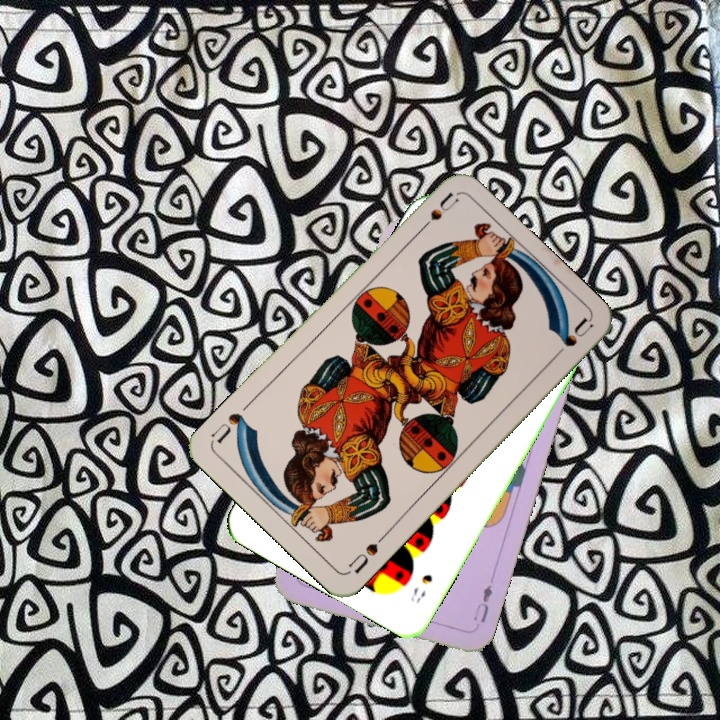EU: (469, 581, 496, 625)
S8: (406, 569, 435, 605)
SU: (412, 188, 461, 238), (343, 529, 390, 576)
